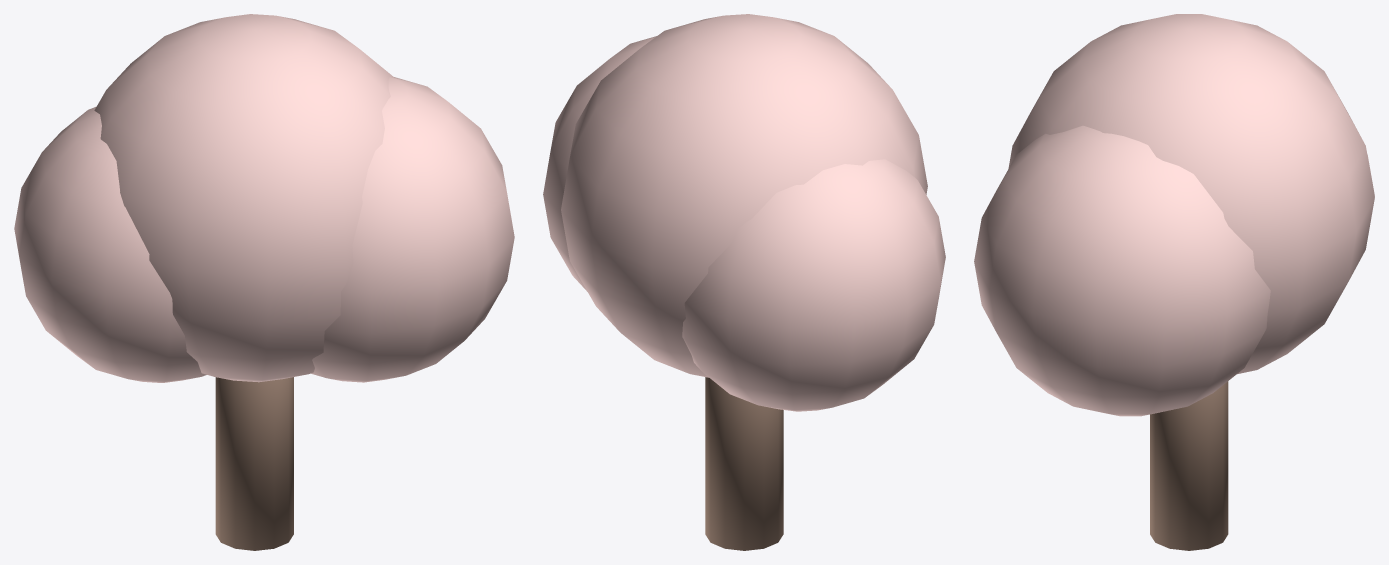
The model's file is prop_sakura_tree.glb.
The picture shows the model from 3 angles, left to right: view 1: azimuth 30°, elevation 25°; view 2: azimuth 150°, elevation 25°; view 3: azimuth 270°, elevation 25°; orthographic projection.
Visible parts, largest first — view 1: prop_sakura_tree; view 2: prop_sakura_tree; view 3: prop_sakura_tree.
Part boxes in pixels (bbox=[...]): prop_sakura_tree: bbox=[14, 14, 514, 550]; prop_sakura_tree: bbox=[543, 14, 945, 550]; prop_sakura_tree: bbox=[974, 14, 1374, 550].
Bounding box in the file's own units: 2.41 × 2.85 × 2.05.
